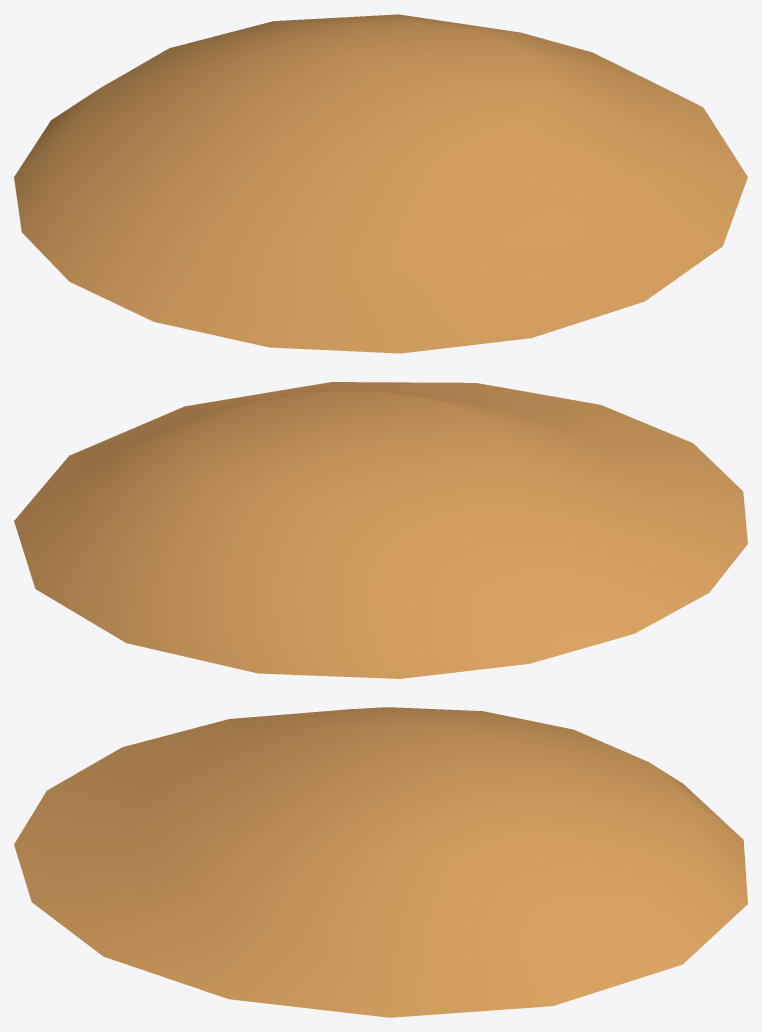
The model's file is Sand.fbx.
The picture shows the model from 3 angles, top to bottom: view 1: azimuth 30°, elevation 25°; view 2: azimuth 150°, elevation 25°; view 3: azimuth 270°, elevation 25°; orthographic projection. The views are drawn at different scales.
Visible parts, largest first — view 1: Sand; view 2: Sand; view 3: Sand.
Part boxes in pixels (<box>): Sand: <box>14,14,747,353</box>; Sand: <box>14,382,747,678</box>; Sand: <box>14,707,747,1017</box>.
Size of the model in its own units: 2.34 by 2.35 by 0.3489.
